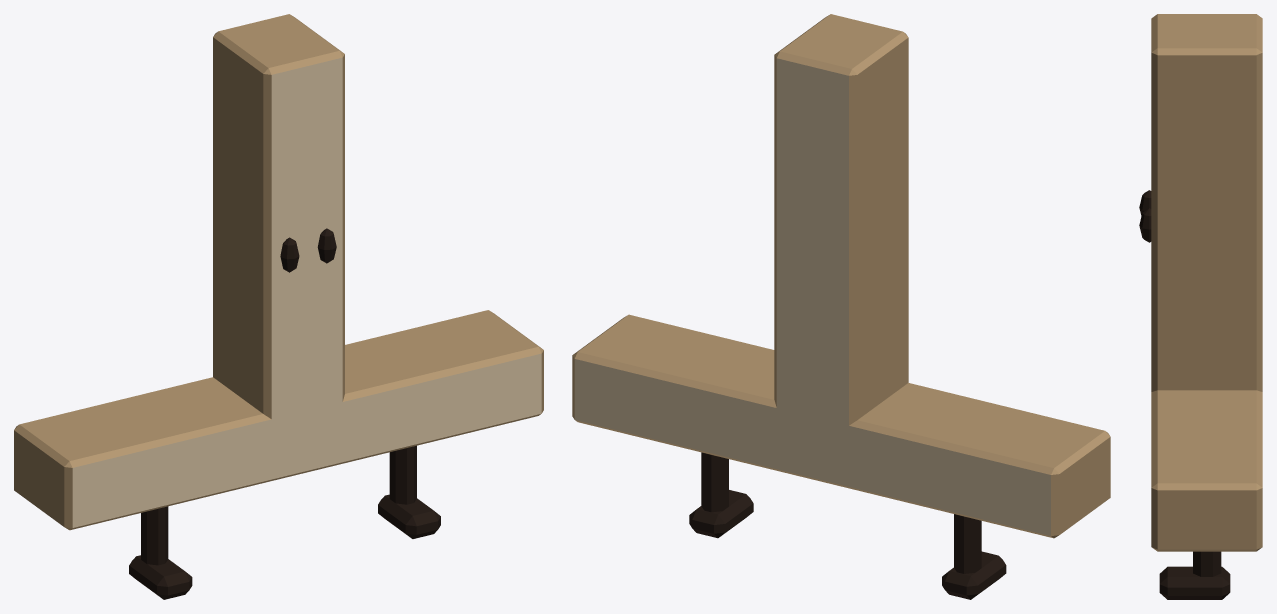
3 renders of one model, left to right at view 1: azimuth 30°, elevation 25°; view 2: azimuth 150°, elevation 25°; view 3: azimuth 270°, elevation 25°, orthographic. The views are drawn at different scales.
Visible parts, largest first — view 1: Glyph, Leg_L, Leg_R; view 2: Glyph, Leg_R, Leg_L; view 3: Glyph, Leg_R, Eye_R, Eye_L.
Part boxes in pixels (bbox=[...]): Glyph: bbox=[14, 14, 543, 530]; Leg_L: bbox=[129, 506, 192, 599]; Leg_R: bbox=[378, 445, 440, 538]; Glyph: bbox=[572, 14, 1110, 538]; Leg_R: bbox=[689, 452, 753, 538]; Leg_L: bbox=[942, 514, 1006, 599]; Glyph: bbox=[1151, 14, 1262, 551]; Leg_R: bbox=[1159, 551, 1230, 599]; Eye_R: bbox=[1139, 208, 1151, 242]; Eye_L: bbox=[1139, 190, 1151, 215].
Bounding box in the file's own units: 0.54 × 0.55 × 0.122.
